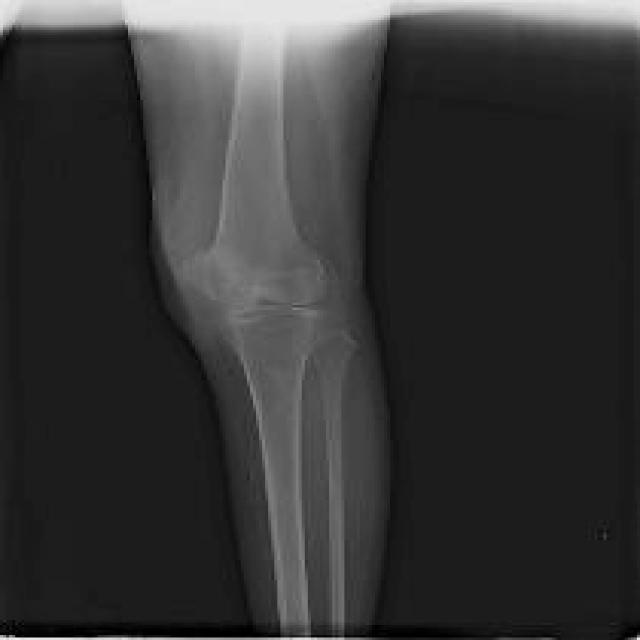normal: (171, 30, 354, 640)
